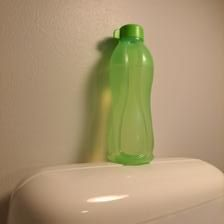bottle: (103, 22, 156, 164)
